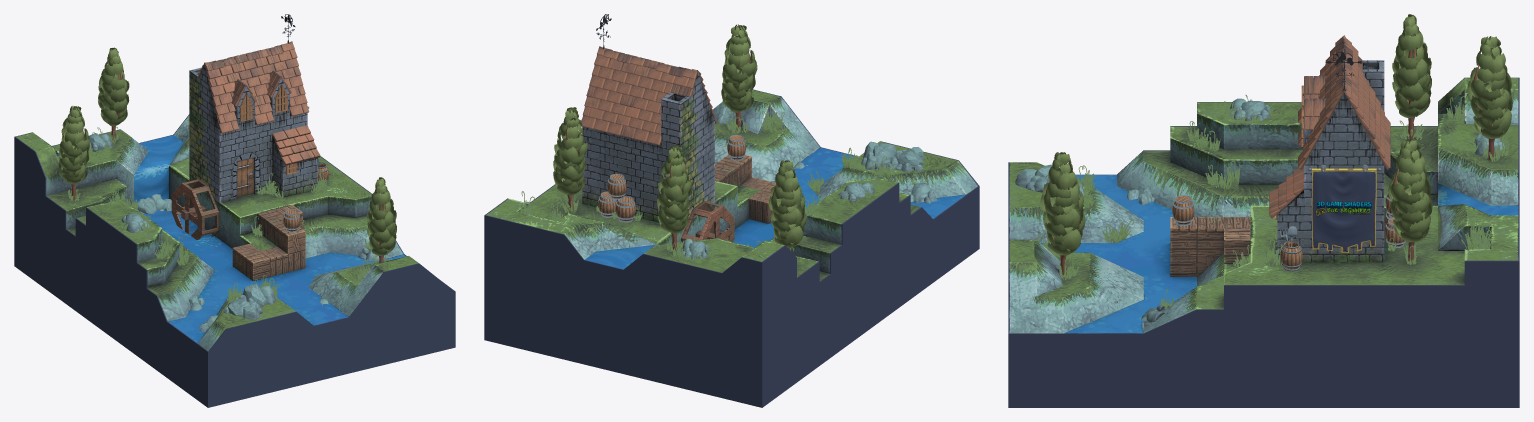
The model's file is mill.gltf.
3 views of the same model, side by side, from view 1: azimuth 30°, elevation 25°; view 2: azimuth 150°, elevation 25°; view 3: azimuth 270°, elevation 25° (orthographic). The views are drawn at different scales.
Visible parts, largest first — view 1: mill-scene_grid-floor, mill-scene_earth-lp, mill-scene_water-lp, mill-scene_house-lp, mill-scene_shingle, mill-scene_dock-lp, mill-scene_wheel-lp, shutters_shutter-rig, mill-scene_house-front-door, mill-scene_rock.001, mill-scene_rock.002; view 2: mill-scene_grid-floor, mill-scene_earth-lp, mill-scene_house-lp, mill-scene_shingle, mill-scene_water-lp, mill-scene_dock-lp, mill-scene_wheel-lp, mill-scene_rock.001, mill-scene_rock.002, mill-scene_rock, mill-scene_rock.013, mill-scene_rock.004; view 3: mill-scene_grid-floor, mill-scene_earth-lp, mill-scene_water-lp, mill-scene_house-lp, mill-scene_shingle, banner_banner-rig, mill-scene_dock-lp, mill-scene_rock, mill-scene_rock.002, mill-scene_house-roof-lp, mill-scene_barrel-wood.003.
Part boxes in pixels (x1=…): mill-scene_grid-floor: x1=14, y1=114, x2=455, y2=407; mill-scene_earth-lp: x1=16, y1=115, x2=418, y2=351; mill-scene_water-lp: x1=134, y1=135, x2=405, y2=343; mill-scene_house-lp: x1=189, y1=64, x2=317, y2=202; mill-scene_shingle: x1=198, y1=42, x2=320, y2=165; mill-scene_dock-lp: x1=232, y1=205, x2=305, y2=280; mill-scene_wheel-lp: x1=171, y1=178, x2=219, y2=239; shutters_shutter-rig: x1=239, y1=84, x2=297, y2=175; mill-scene_house-front-door: x1=237, y1=158, x2=253, y2=197; mill-scene_rock.001: x1=238, y1=283, x2=275, y2=306; mill-scene_rock.002: x1=223, y1=298, x2=262, y2=319; mill-scene_grid-floor: x1=484, y1=89, x2=979, y2=407; mill-scene_earth-lp: x1=486, y1=90, x2=977, y2=280; mill-scene_house-lp: x1=582, y1=71, x2=714, y2=222; mill-scene_shingle: x1=581, y1=48, x2=716, y2=145; mill-scene_water-lp: x1=585, y1=147, x2=965, y2=269; mill-scene_dock-lp: x1=715, y1=154, x2=775, y2=223; mill-scene_wheel-lp: x1=681, y1=200, x2=734, y2=242; mill-scene_rock.001: x1=861, y1=141, x2=900, y2=171; mill-scene_rock.002: x1=895, y1=147, x2=924, y2=172; mill-scene_rock: x1=838, y1=182, x2=875, y2=202; mill-scene_rock.013: x1=909, y1=183, x2=937, y2=203; mill-scene_rock.004: x1=682, y1=238, x2=709, y2=259; mill-scene_grid-floor: x1=1008, y1=77, x2=1519, y2=407; mill-scene_earth-lp: x1=1009, y1=78, x2=1518, y2=333; mill-scene_water-lp: x1=1040, y1=175, x2=1518, y2=333; mill-scene_house-lp: x1=1277, y1=60, x2=1384, y2=262; mill-scene_shingle: x1=1269, y1=36, x2=1390, y2=217; banner_banner-rig: x1=1311, y1=170, x2=1376, y2=252; mill-scene_dock-lp: x1=1170, y1=217, x2=1250, y2=276; mill-scene_rock: x1=1230, y1=98, x2=1270, y2=121; mill-scene_rock.002: x1=1015, y1=164, x2=1052, y2=192; mill-scene_house-roof-lp: x1=1271, y1=35, x2=1388, y2=218; mill-scene_barrel-wood.003: x1=1172, y1=196, x2=1194, y2=224.
Size of the model in its own units: 14.1 by 13.63 by 19.1.
14 materials, 14 textured.
